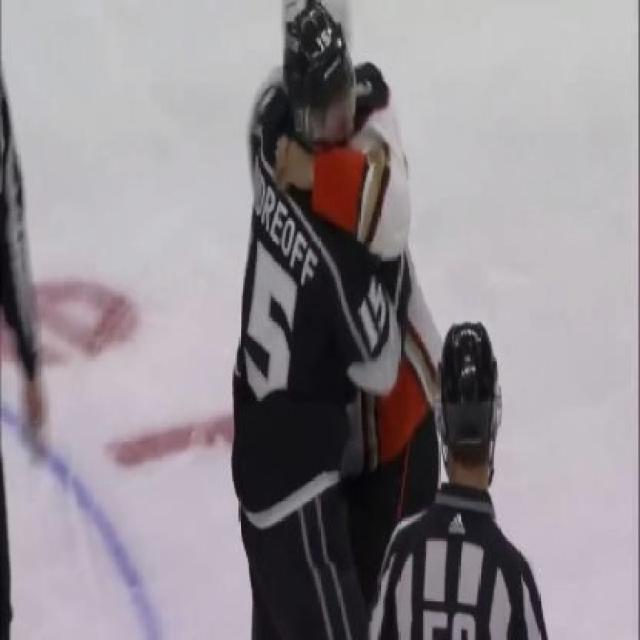fight: (204, 0, 453, 638)
non-fight: (351, 312, 552, 638)
